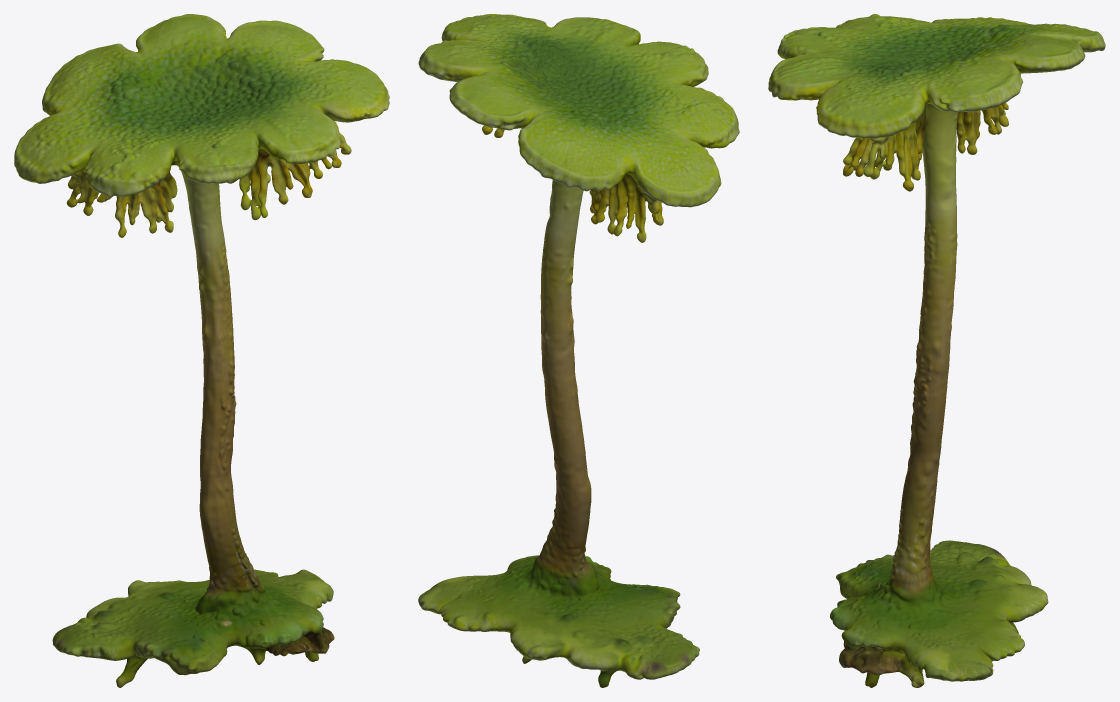
Rendered from anteridióforo.glb.
The picture shows the model from 3 angles, left to right: view 1: azimuth 30°, elevation 25°; view 2: azimuth 150°, elevation 25°; view 3: azimuth 270°, elevation 25°; orthographic projection. The views are drawn at different scales.
Visible parts, largest first — view 1: Mesh_0; view 2: Mesh_0; view 3: Mesh_0.
Boxes of the visible parts, x1,y1,x2,y2 form: Mesh_0: (14,14,389,687); Mesh_0: (418,14,739,687); Mesh_0: (768,14,1105,687).
Size of the model in its own units: 1.1 by 2 by 0.9803.
1 material, 1 textured.
